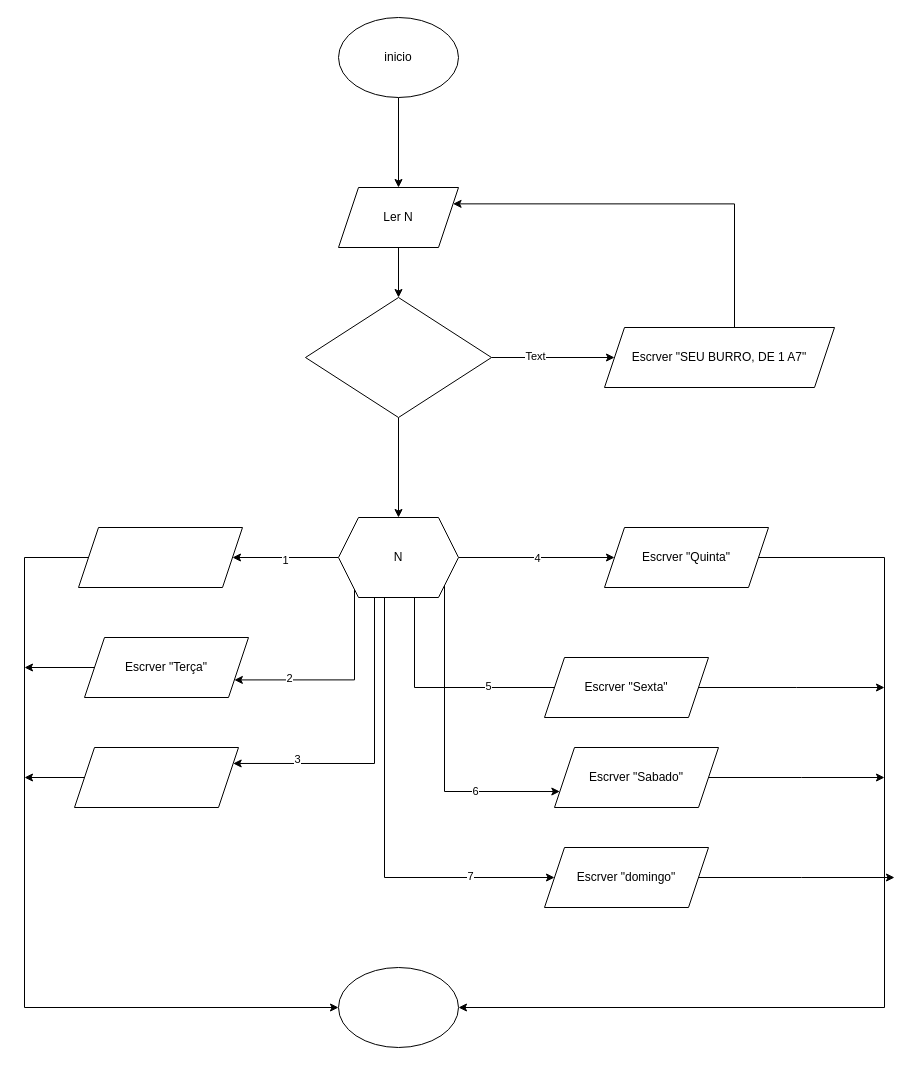
Some shapes in this 920 by 1065 pixel diagram are drawn without their labels. Here are the shapes that lost their labels. From the top down, the box of each, then its label:
(304, 296, 492, 418): N<=1 e N<=7
(78, 526, 242, 588): Escrver "segunda"
(74, 746, 238, 808): Escrver "Quarta"
(338, 966, 458, 1048): Fim
